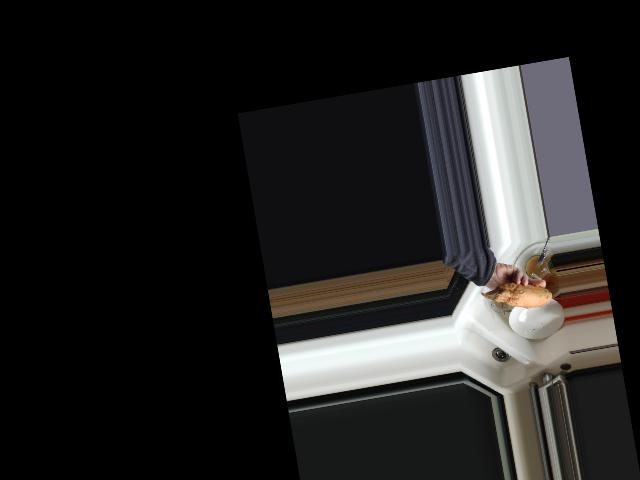sweet_potato: (479, 276, 553, 317)
